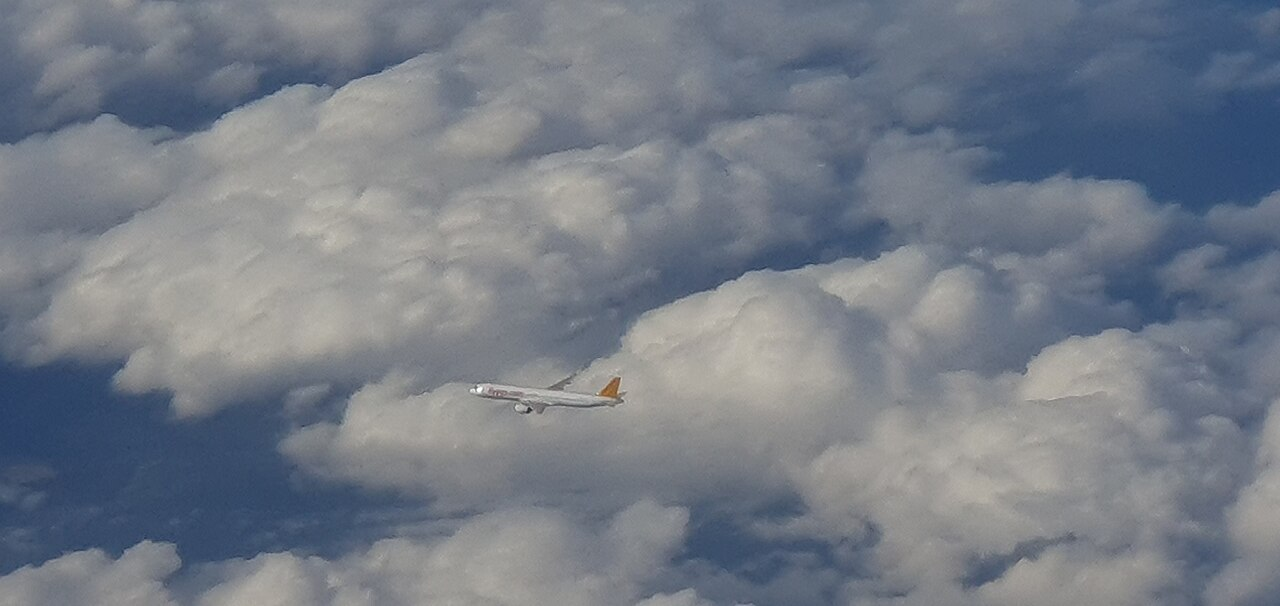aircraft: (438, 348, 628, 407)
